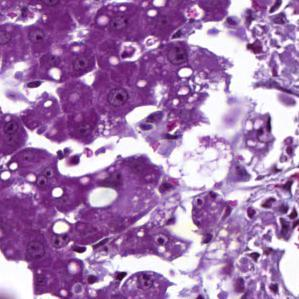ballooning: (164, 132, 235, 191)
